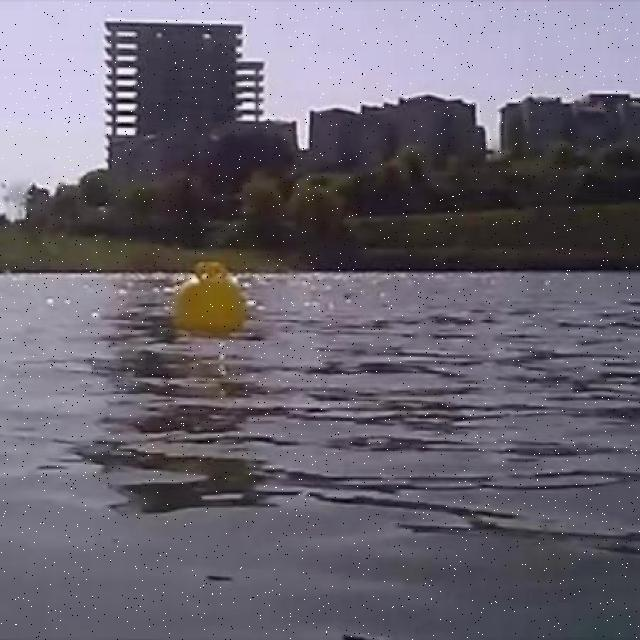buoy: (177, 264, 250, 333)
